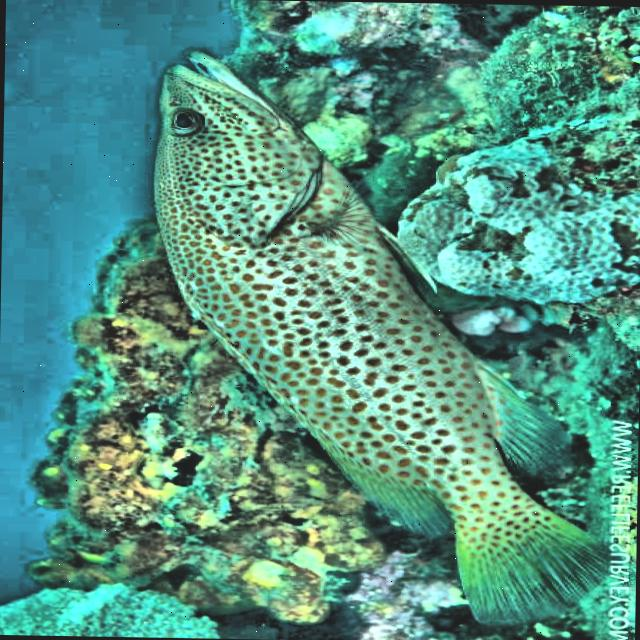fish: (142, 44, 624, 628)
